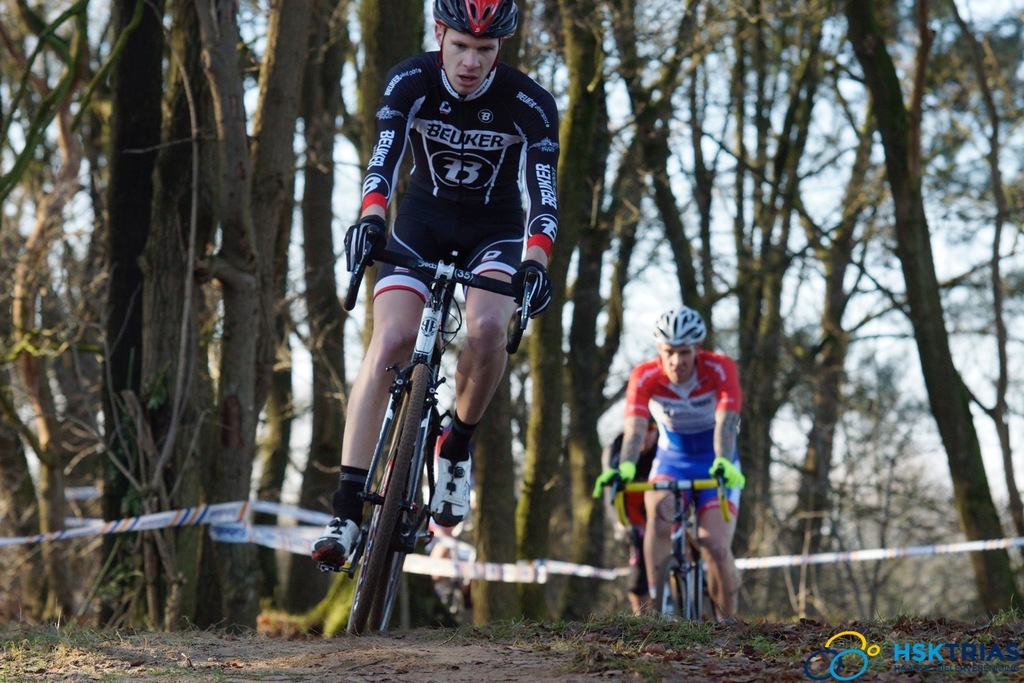Bike: (333, 222, 549, 644), (594, 462, 752, 634)
